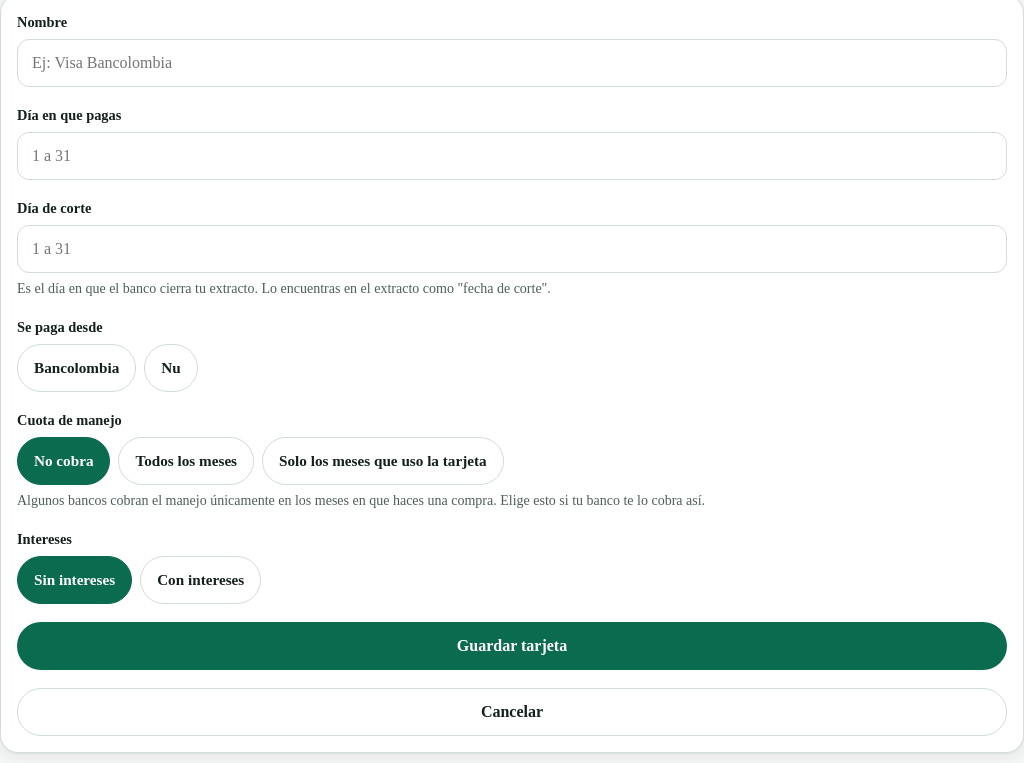
it: CardForm › el monto y la tasa solo aparecen si aplican, con sus ayudas
The width and height of the screenshot is (1024, 763).
Expected: the field labelled "Monto" is not shown
Expected: the field labelled "Tasa" is not shown
What coordinates should you click on to do the following:
click the radio button labelled "Solo los meses que uso la tarjeta"
I would click on:
 (383, 461)
Its box is [262,437,504,485].
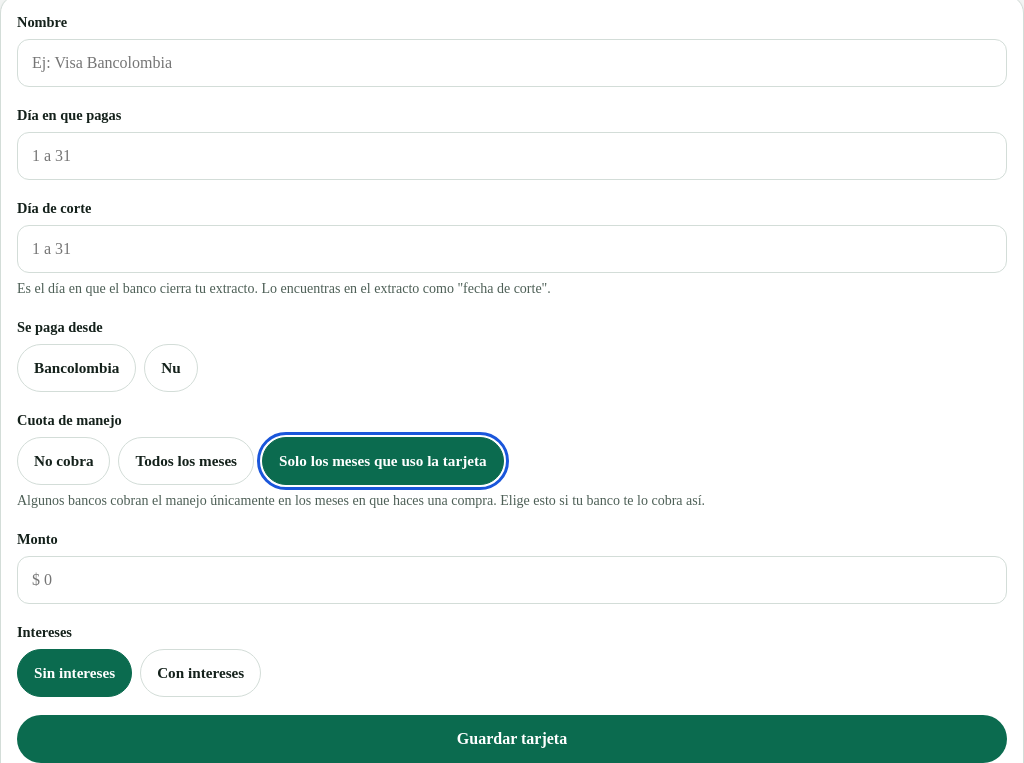
Expected: the field labelled "Monto" is shown, [17,556,1007,604]
What coordinates should you click on to do the following:
click the radio button labelled "Con intereses"
I would click on:
 (201, 673)
Its box is [140,649,261,697].
(page scrolled)
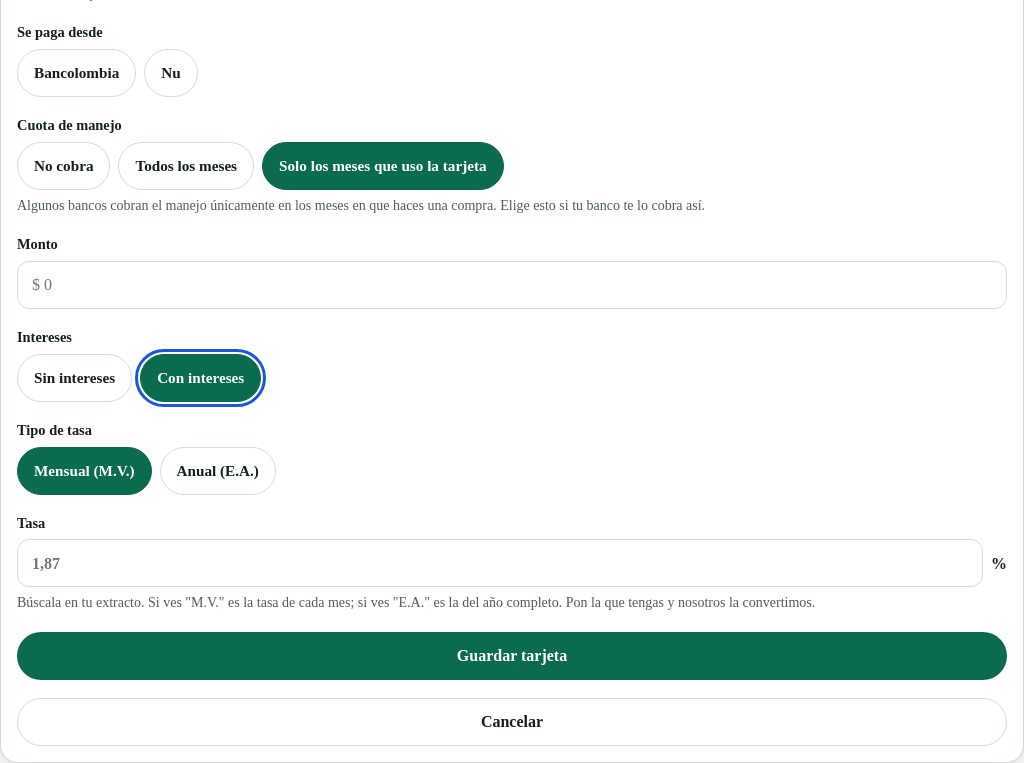
Expected: the radio button labelled "Anual (E.A.)" is shown, [160,447,276,495]
Expected: the field labelled "Tasa" is shown, [17,540,983,588]
Expected: the text "%" is shown, [991,552,1007,575]
